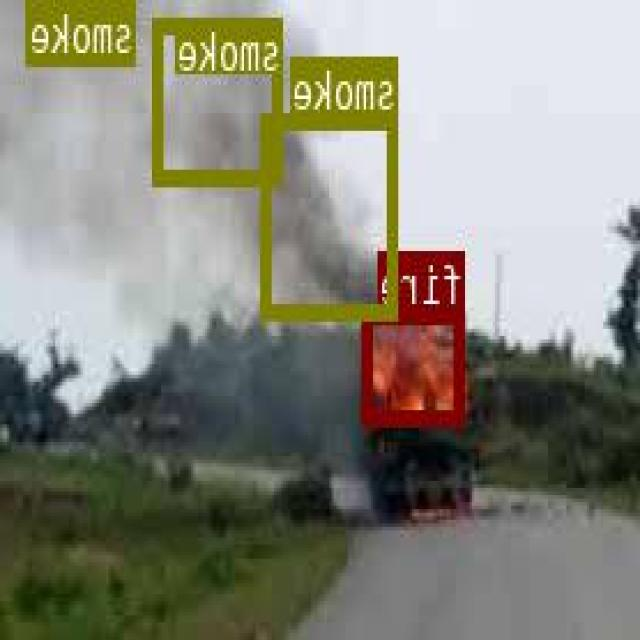fire: (366, 306, 467, 422)
smoke: (264, 112, 400, 315), (155, 15, 284, 183), (29, 0, 137, 64)
